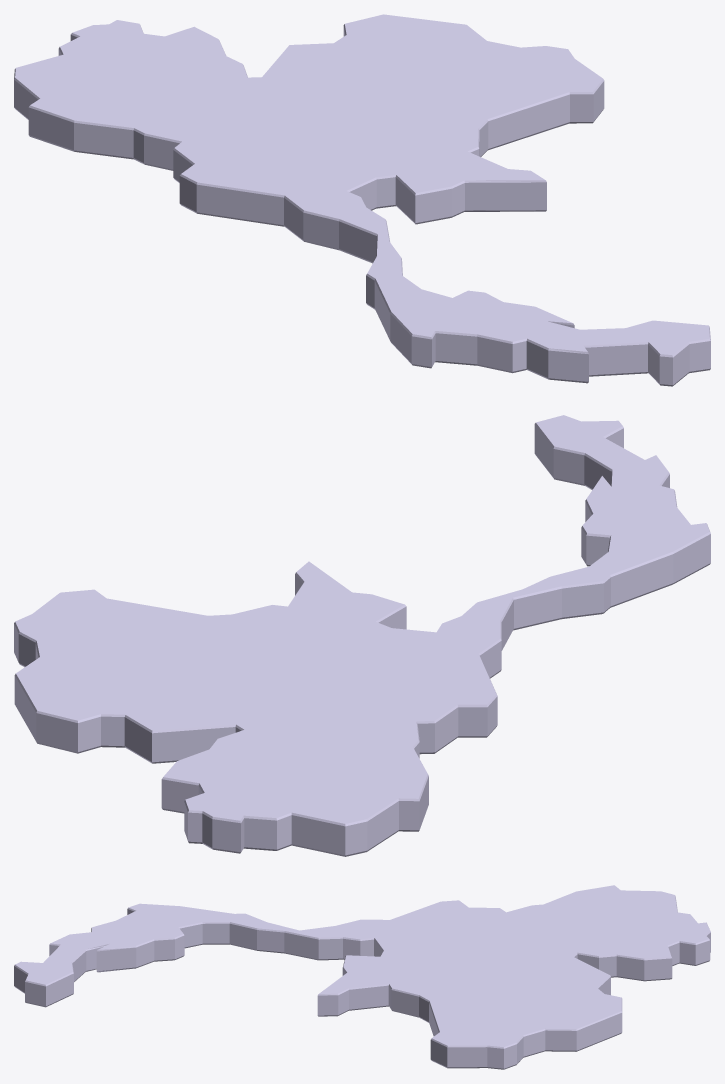
Rendered from THA.glb.
3 renders of one model, top to bottom at view 1: azimuth 30°, elevation 25°; view 2: azimuth 150°, elevation 25°; view 3: azimuth 270°, elevation 25°, orthographic. The views are drawn at different scales.
Bounding box in the file's own units: 1.05 × 0.068 × 1.9.
